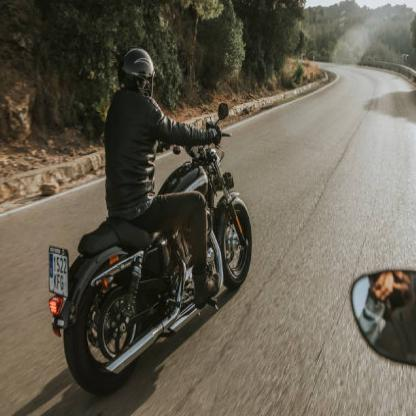Motorcycle: (48, 122, 261, 390)
